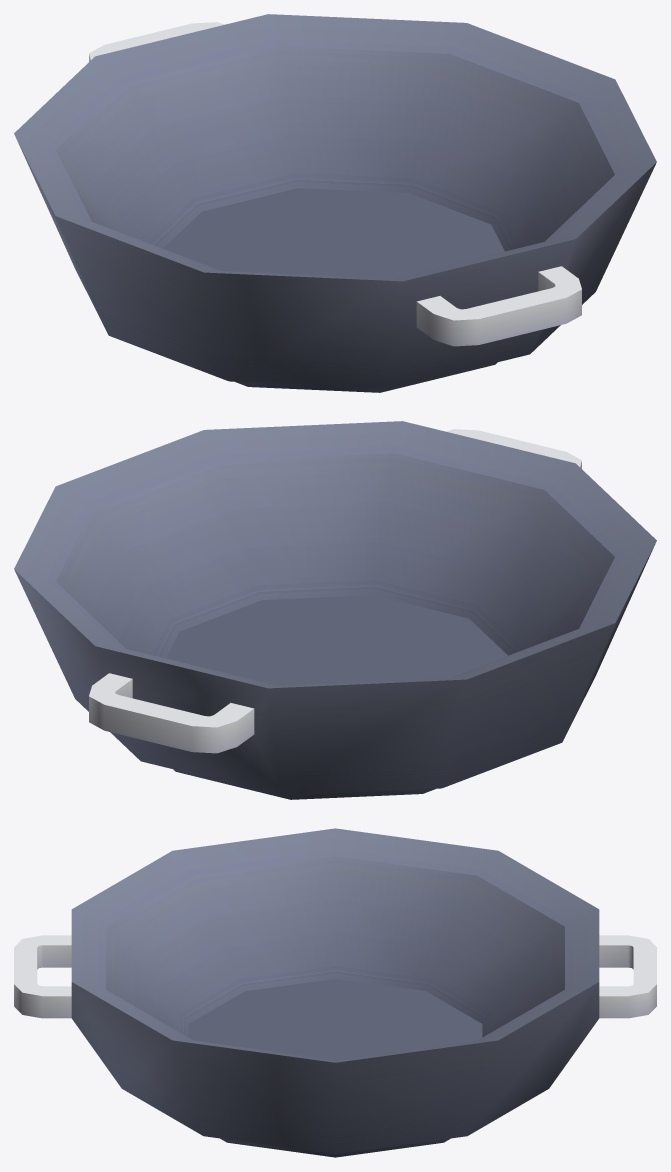
The model's file is kenney-food-pan.glb.
3 views of the same model, one above another, from view 1: azimuth 30°, elevation 25°; view 2: azimuth 150°, elevation 25°; view 3: azimuth 270°, elevation 25° (orthographic). The views are drawn at different scales.
Visible parts, largest first — view 1: pan; view 2: pan; view 3: pan.
Part boxes in pixels (x1,y1,x2,y2): pan: (14, 14, 656, 392); pan: (14, 421, 656, 799); pan: (14, 828, 656, 1157).
Bounding box in the file's own units: 0.6574 × 0.1754 × 0.7621.
1 material, 1 textured.
